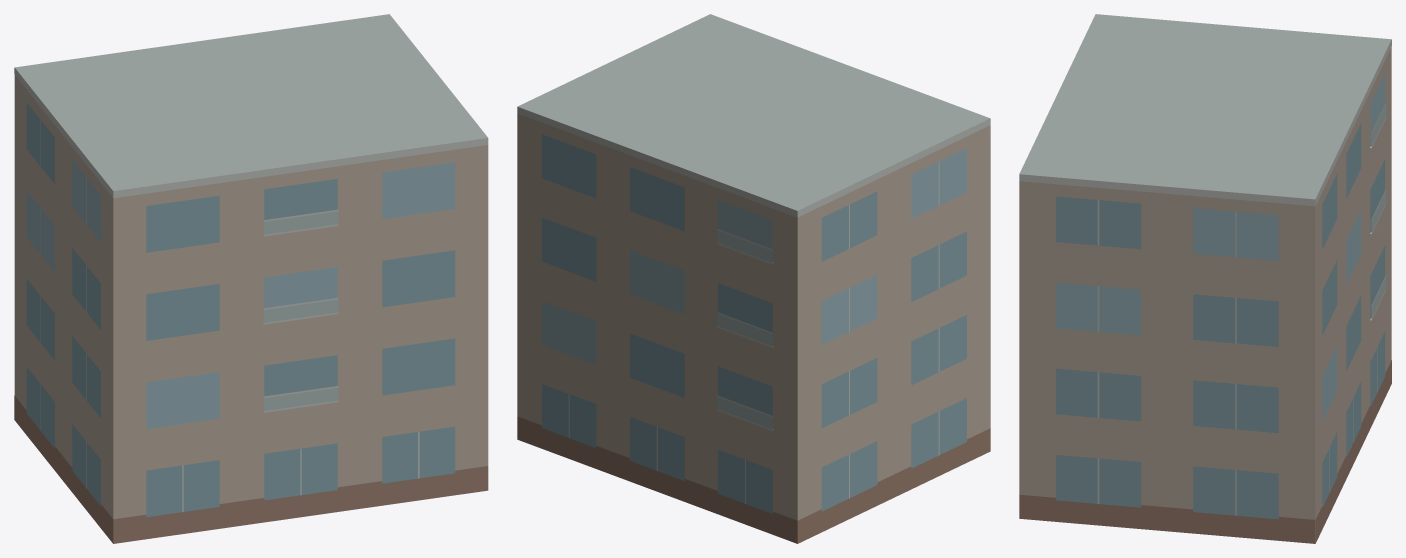
File: residential-0efea063-8943-4c1a-8264-54754565bc7e.glb
3 views of the same model, side by side, from view 1: azimuth 30°, elevation 25°; view 2: azimuth 150°, elevation 25°; view 3: azimuth 270°, elevation 25° (orthographic). The views are drawn at different scales.
Parts seen in each view (by area): view 1: residential-0efea063-8943-4c1a-8264-54754565bc7e.tmp; view 2: residential-0efea063-8943-4c1a-8264-54754565bc7e.tmp; view 3: residential-0efea063-8943-4c1a-8264-54754565bc7e.tmp.
Boxes of the visible parts, x1,y1,x2,y2 form: residential-0efea063-8943-4c1a-8264-54754565bc7e.tmp: [14, 14, 488, 543]; residential-0efea063-8943-4c1a-8264-54754565bc7e.tmp: [517, 14, 990, 543]; residential-0efea063-8943-4c1a-8264-54754565bc7e.tmp: [1019, 14, 1391, 543].
Bounding box in the file's own units: 14.09 × 12.2 × 11.97.
